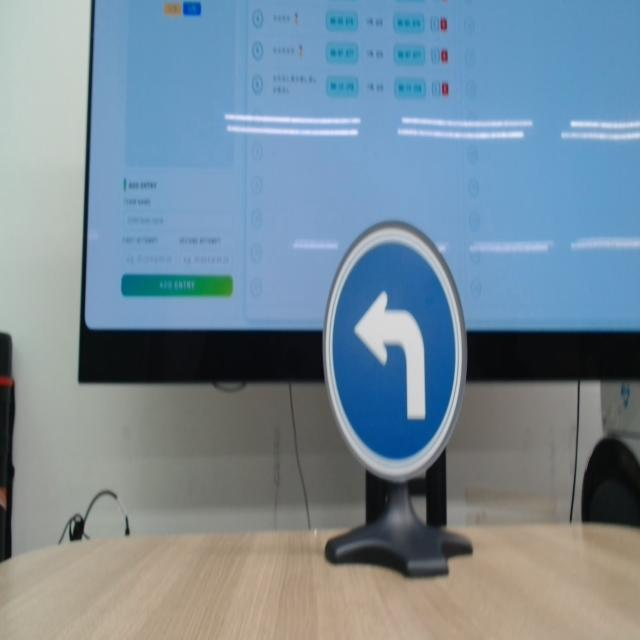left_direction: (309, 214, 484, 500)
